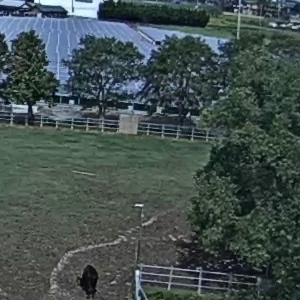cow: (67, 254, 110, 299)
